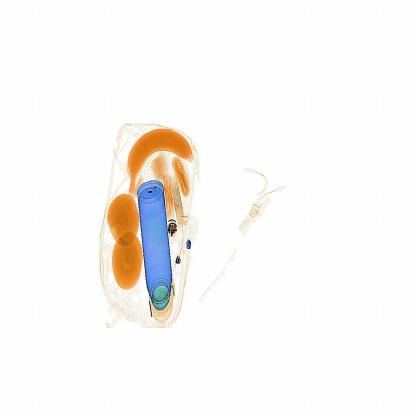wrench: (162, 212, 184, 240)
